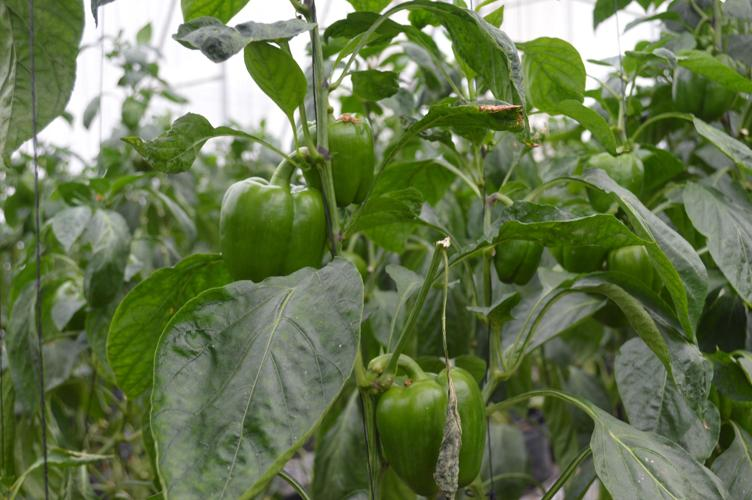BellPepper: (368, 361, 497, 493), (208, 173, 332, 279), (289, 118, 388, 203), (572, 134, 652, 221), (608, 230, 671, 309), (491, 213, 544, 290)
